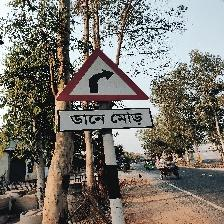Right-turn: (55, 49, 154, 135)
